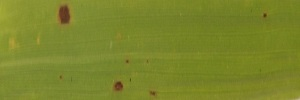RiceBrownSpot: (109, 77, 166, 100), (55, 1, 74, 32)
